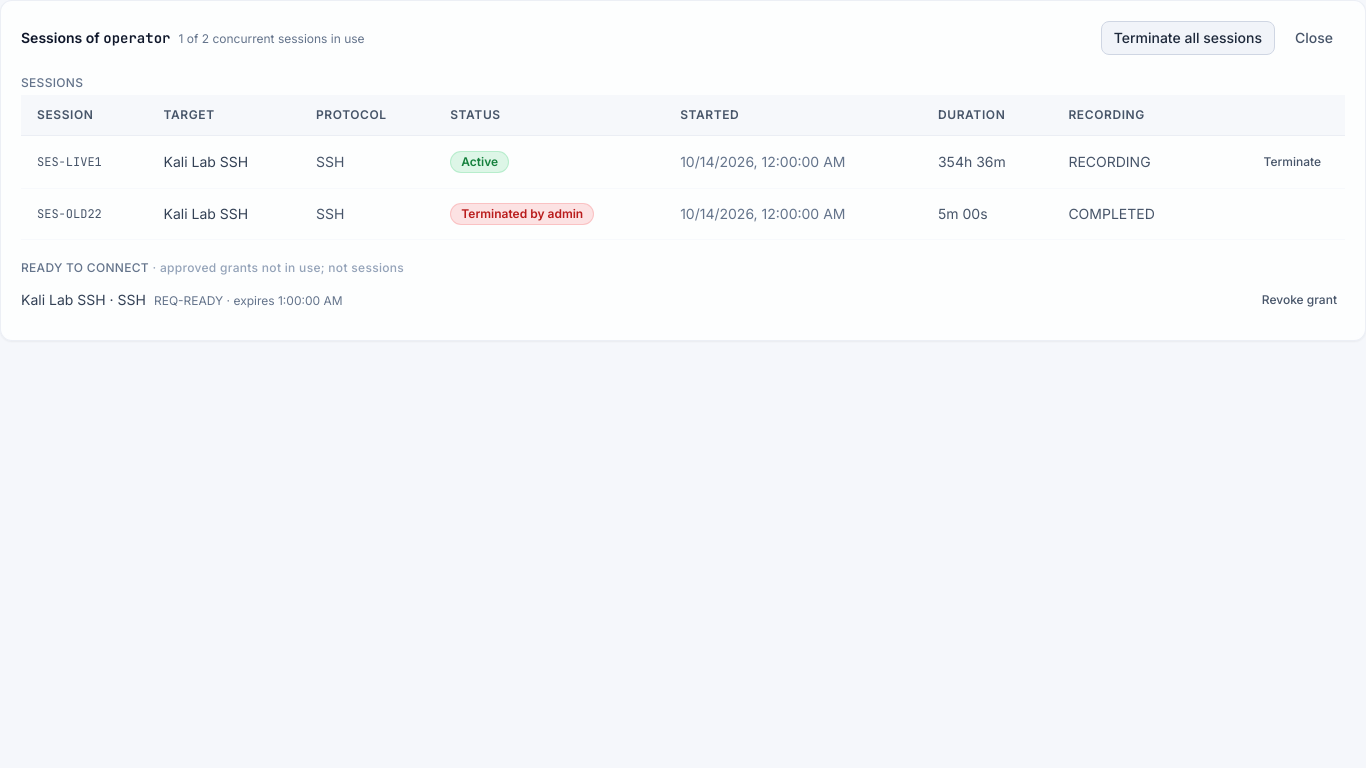
Test: UserSessionsPanel › cancelling the dialog does nothing
Click the button "Terminate": {"x": 1292, "y": 162} [1256, 150, 1329, 174]
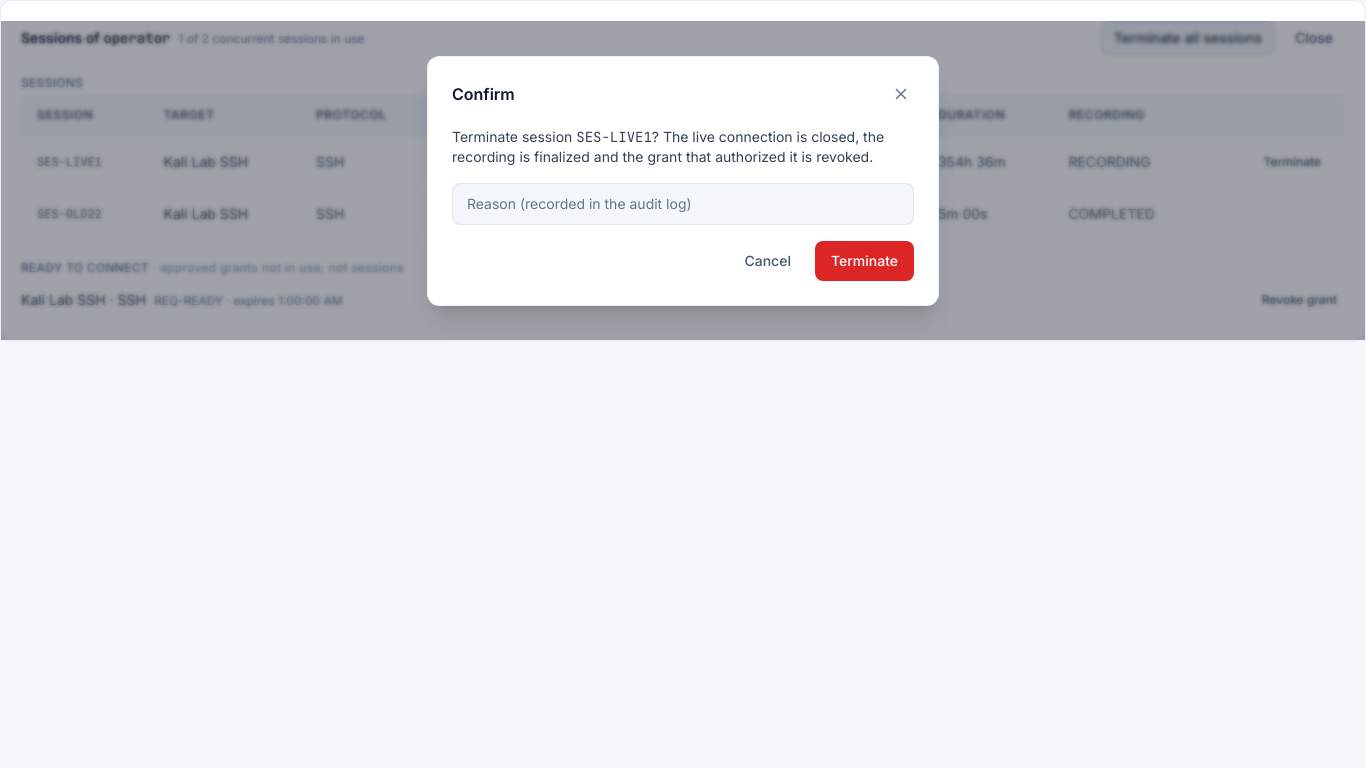
Click the button "Cancel": {"x": 768, "y": 260} [728, 240, 807, 280]
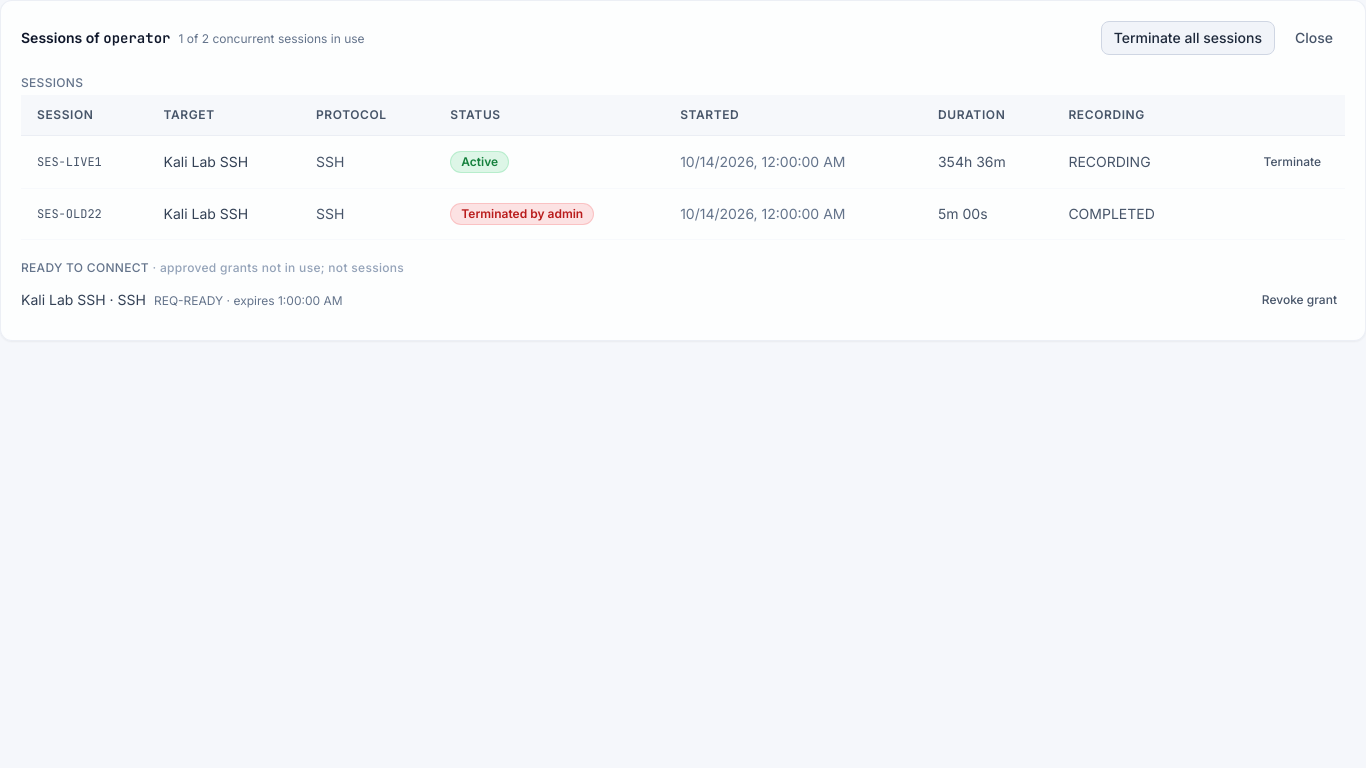
Expected: the heading "Confirm" is gone
